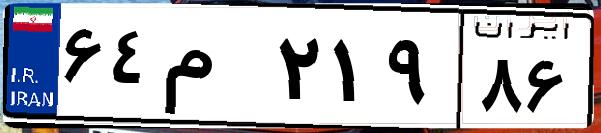1: (330, 28, 385, 110)
2: (270, 28, 330, 110)
4: (110, 28, 158, 98)
6: (57, 26, 110, 100), (525, 38, 570, 115)
8: (475, 38, 525, 113)
9: (385, 28, 445, 110)
م: (158, 20, 270, 120)
